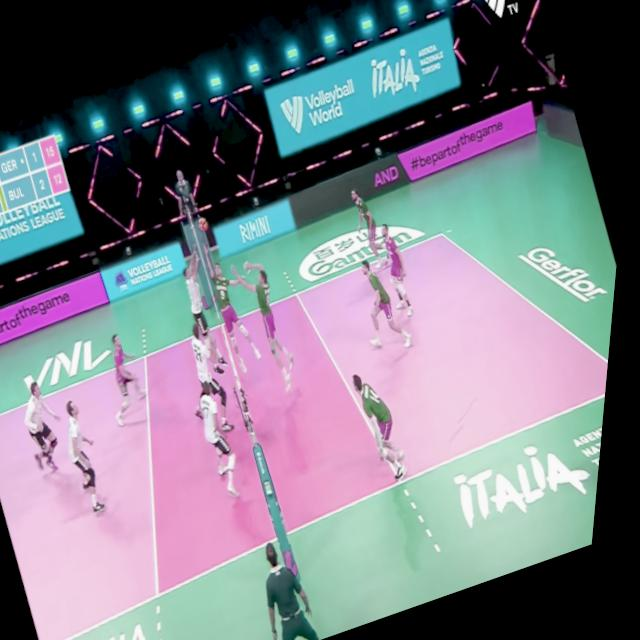player: (220, 242, 323, 398), (192, 227, 282, 375), (168, 241, 249, 381), (347, 362, 432, 488), (52, 397, 134, 518), (193, 378, 268, 504), (181, 318, 252, 436), (349, 252, 428, 358), (94, 327, 169, 428), (17, 378, 87, 480), (374, 218, 432, 322), (346, 182, 404, 271)
